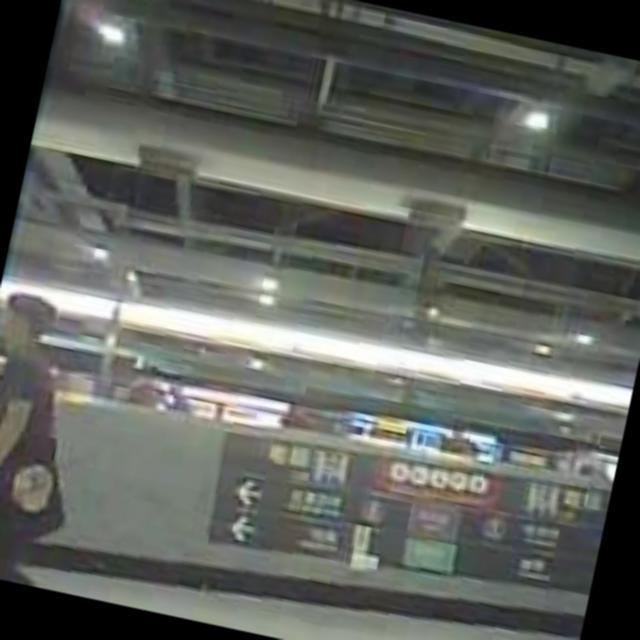person: (0, 285, 109, 590)
